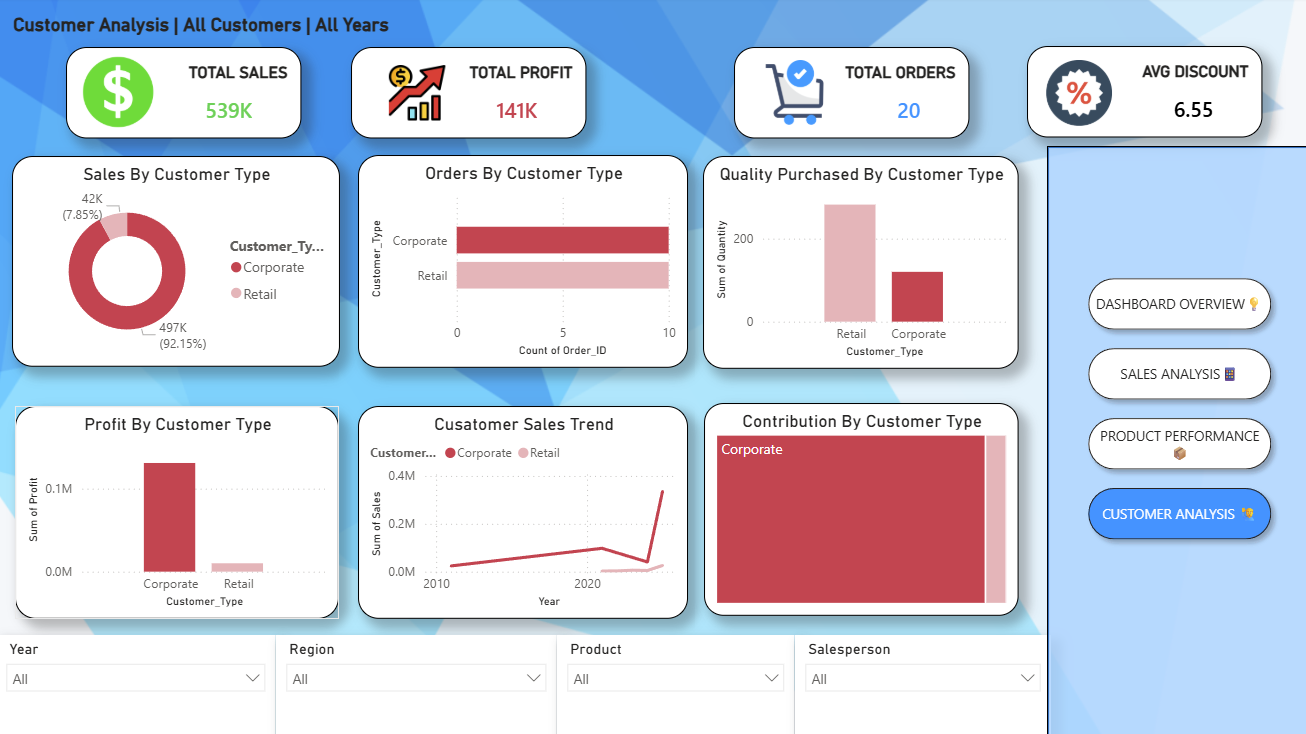

Layout of this report page (visuals, bound fields, positions):
{"tool":"powerbi","page":{"name":"CUSTOMER ANALYSIS 🙋♂️","canvas":[1280,720],"ordinal":3},"visuals":[{"type":"cardVisual","title":"TOTAL SALES","fields":{"Data":["Sum(PRAVEENDATA(Sheet1).Sales)"]},"box":[68.1,48.6,228.6,89.5],"z":0},{"type":"cardVisual","title":"TOTAL PROFIT","fields":{"Data":["PRAVEENDATA(Sheet1).PRODUCT PROFIT"]},"box":[345.3,48.6,228.6,89.5],"z":1000},{"type":"cardVisual","title":"TOTAL ORDERS","fields":{"Data":["PRAVEENDATA(Sheet1).TOTAL ORDERS"]},"box":[717.8,48.6,228.6,89.5],"z":2000},{"type":"cardVisual","title":"AVG DISCOUNT","fields":{"Data":["PRAVEENDATA(Sheet1).AVERAGE DISCOUNT"]},"box":[1002.8,47.7,228.6,89.5],"z":3000},{"type":"image","box":[76.8,56.4,84.6,72],"z":4000},{"type":"image","box":[352.1,66.1,114.8,54.5],"z":5000},{"type":"image","box":[738.2,61.3,76.8,63.2],"z":6000},{"type":"image","box":[1013.5,61.3,79.8,64.2],"z":7000},{"type":"donutChart","title":"Sales By Customer Type","fields":{"Category":["PRAVEENDATA(Sheet1).Customer_Type"],"Y":["Sum(PRAVEENDATA(Sheet1).Sales)"]},"box":[15.1,154.8,318.8,204.8],"z":8000},{"type":"clusteredColumnChart","title":"Profit By Customer Type","fields":{"Category":["PRAVEENDATA(Sheet1).Customer_Type"],"Y":["Sum(PRAVEENDATA(Sheet1).Profit)"]},"box":[18.6,398,315.3,207.1],"z":9000},{"type":"barChart","title":"Orders By Customer Type","fields":{"Category":["PRAVEENDATA(Sheet1).Customer_Type"],"Y":["CountNonNull(PRAVEENDATA(Sheet1).Order_ID)"]},"box":[352.6,153.6,321.2,207.1],"z":10000},{"type":"clusteredColumnChart","title":"Quality Purchased By Customer Type","fields":{"Category":["PRAVEENDATA(Sheet1).Customer_Type"],"Y":["Sum(PRAVEENDATA(Sheet1).Quantity)"]},"box":[687.7,154.8,307.2,207.1],"z":11000},{"type":"lineChart","title":"Cusatomer Sales Trend","fields":{"Category":["PRAVEENDATA(Sheet1).Year"],"Y":["Sum(PRAVEENDATA(Sheet1).Sales)"],"Series":["PRAVEENDATA(Sheet1).Customer_Type"]},"box":[352.6,398,321.2,207.1],"z":12000},{"type":"treemap","title":"Contribution By Customer Type","fields":{"Group":["PRAVEENDATA(Sheet1).Customer_Type"],"Values":["Sum(PRAVEENDATA(Sheet1).Profit)"]},"box":[688.9,394.5,306,207.1],"z":13000},{"type":"slicer","fields":{"Values":["PRAVEENDATA(Sheet1).Year"]},"box":[0,620.5,272.3,99.2],"z":14000},{"type":"slicer","fields":{"Values":["PRAVEENDATA(Sheet1).Region"]},"box":[272.3,620.5,273.3,99.2],"z":15000},{"type":"slicer","fields":{"Values":["PRAVEENDATA(Sheet1).Product"]},"box":[545.7,620.5,231.5,99.2],"z":16000},{"type":"slicer","fields":{"Values":["PRAVEENDATA(Sheet1).Salesperson"]},"box":[777.1,620.5,249,99.2],"z":17000},{"type":"shape","box":[1022.2,144.9,257.8,574.8],"z":18000},{"type":"pageNavigator","box":[1053.4,264.6,196.5,274.3],"z":19000},{"type":"textbox","box":[11.7,16.5,386.1,24.3],"z":21000}]}

Visuals, with their boxes in screenshot pixels (x1, y1, x2, y2), scaled from the page's 1280x720 canvas onto the 1306x734 screenshot:
"TOTAL SALES" cardVisual: bbox=(69, 50, 303, 141)
"TOTAL PROFIT" cardVisual: bbox=(352, 50, 586, 141)
"TOTAL ORDERS" cardVisual: bbox=(732, 50, 966, 141)
"AVG DISCOUNT" cardVisual: bbox=(1023, 49, 1256, 140)
image: bbox=(78, 57, 165, 131)
image: bbox=(359, 67, 476, 123)
image: bbox=(753, 62, 832, 127)
image: bbox=(1034, 62, 1116, 128)
"Sales By Customer Type" donutChart: bbox=(15, 158, 341, 367)
"Profit By Customer Type" clusteredColumnChart: bbox=(19, 406, 341, 617)
"Orders By Customer Type" barChart: bbox=(360, 157, 687, 368)
"Quality Purchased By Customer Type" clusteredColumnChart: bbox=(702, 158, 1015, 369)
"Cusatomer Sales Trend" lineChart: bbox=(360, 406, 687, 617)
"Contribution By Customer Type" treemap: bbox=(703, 402, 1015, 613)
slicer - PRAVEENDATA(Sheet1).Year: bbox=(0, 633, 278, 733)
slicer - PRAVEENDATA(Sheet1).Region: bbox=(278, 633, 557, 733)
slicer - PRAVEENDATA(Sheet1).Product: bbox=(557, 633, 793, 733)
slicer - PRAVEENDATA(Sheet1).Salesperson: bbox=(793, 633, 1047, 733)
shape: bbox=(1043, 148, 1305, 733)
pageNavigator: bbox=(1075, 270, 1275, 549)
textbox: bbox=(12, 17, 406, 42)
